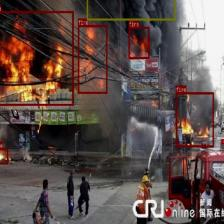fire: (0, 11, 73, 105), (176, 92, 214, 146), (78, 25, 107, 93), (128, 26, 150, 58), (0, 148, 8, 163)
smoke: (87, 0, 175, 20)
